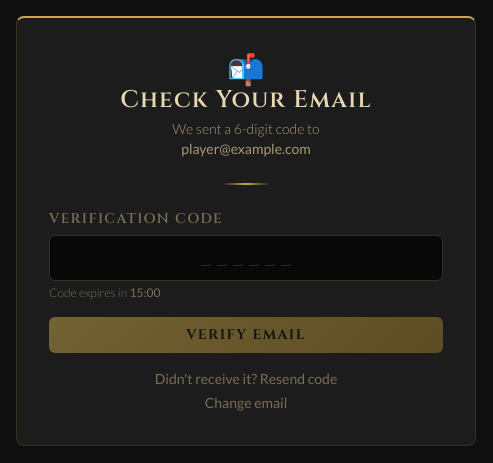
Test: VerifyForm › shows Code has expired after resend resets the expiry timer and time elapses
What coordinates should you click on to do the following:
click the link "Resend code"
I would click on:
 (298, 378)
Its box is [260,370,337,387].
Wait 901000 ms
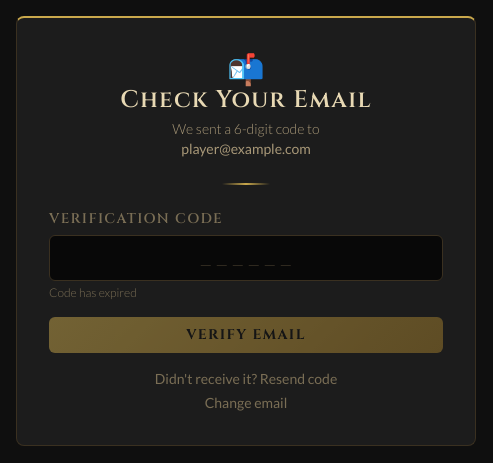
Expected: the text "Code has expired" is shown, [49,285,137,300]
